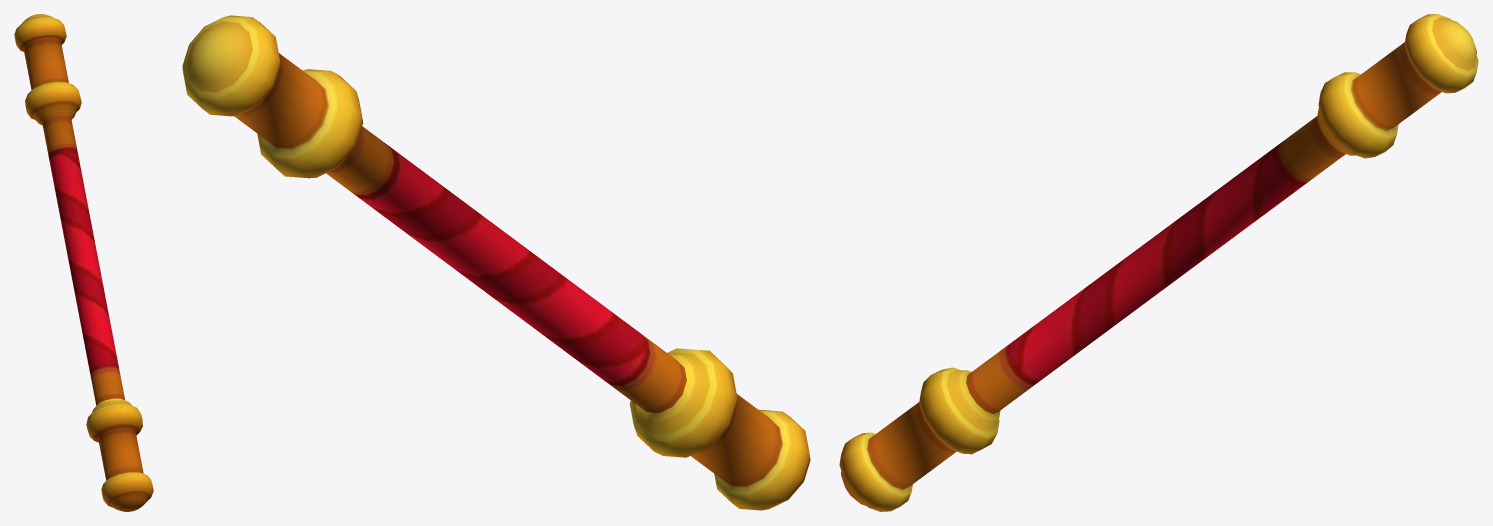
The model's file is wukong-mico_weapon_l.glb.
3 views of the same model, side by side, from view 1: azimuth 30°, elevation 25°; view 2: azimuth 150°, elevation 25°; view 3: azimuth 270°, elevation 25° (orthographic). The views are drawn at different scales.
Parts seen in each view (by area): view 1: wukong-mico_weapon_l_1; view 2: wukong-mico_weapon_l_1; view 3: wukong-mico_weapon_l_1.
Part boxes in pixels (box(x1,y1,x2,y2)): wukong-mico_weapon_l_1: box(14, 14, 153, 511); wukong-mico_weapon_l_1: box(182, 15, 810, 510); wukong-mico_weapon_l_1: box(839, 14, 1478, 511).
Size of the model in its own units: 2.48 by 6.12 by 6.36.
Materials: 2 (2 with a texture image).
